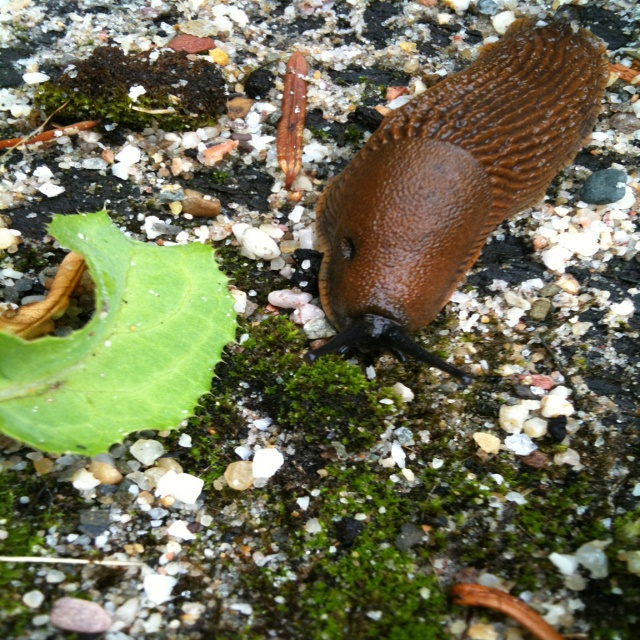Snail: (303, 13, 613, 402)
